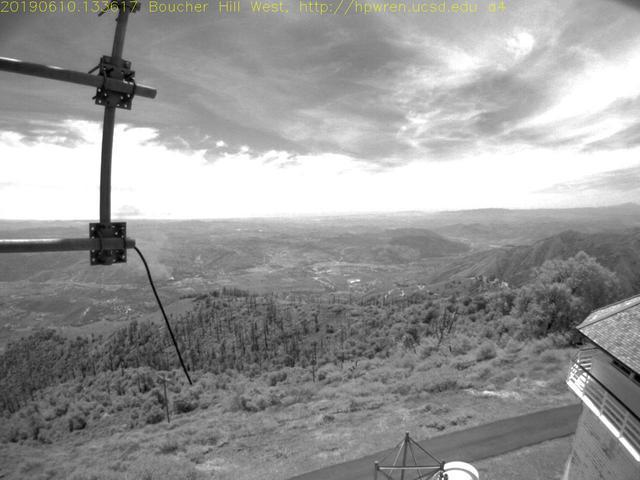Smoke: (133, 225, 177, 284)
